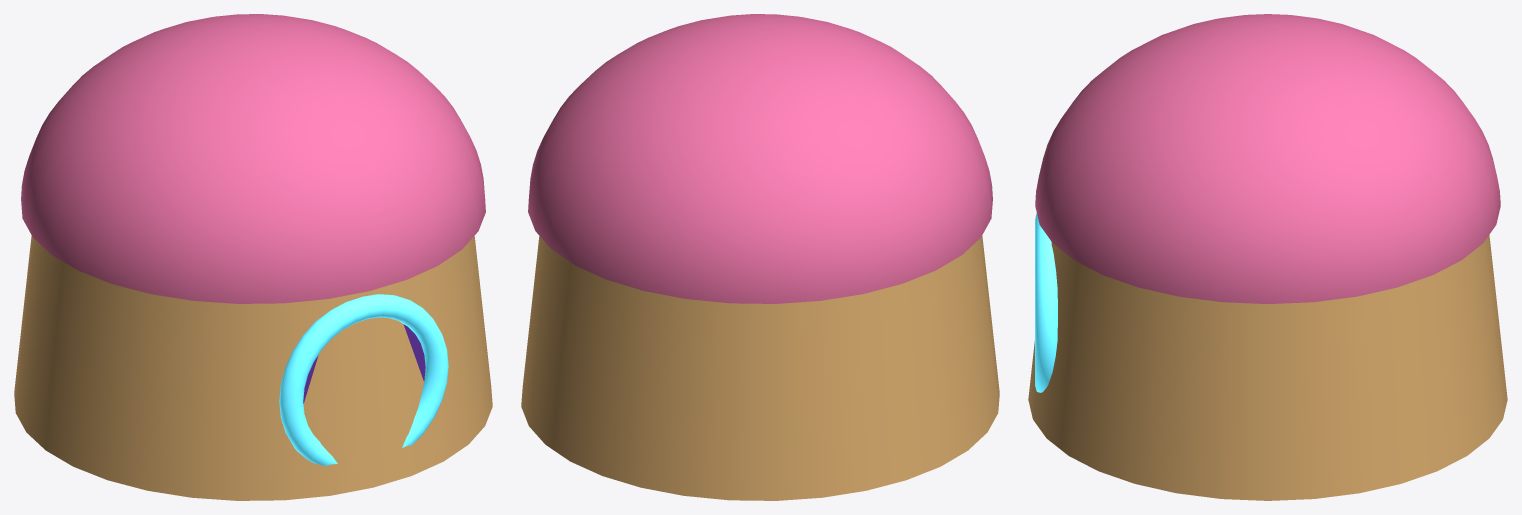
The model's file is game-dome-spike.glb.
3 views of the same model, side by side, from view 1: azimuth 30°, elevation 25°; view 2: azimuth 150°, elevation 25°; view 3: azimuth 270°, elevation 25° (orthographic).
Visible parts, largest first — view 1: UnlockedVisual, DomeBase, HighlightTarget, PortalDoor; view 2: UnlockedVisual, DomeBase; view 3: UnlockedVisual, DomeBase, HighlightTarget.
Boxes of the visible parts, x1,y1,x2,y2 form: UnlockedVisual: [21, 14, 485, 303]; DomeBase: [14, 236, 492, 500]; HighlightTarget: [279, 294, 448, 465]; PortalDoor: [303, 324, 425, 403]; UnlockedVisual: [528, 14, 992, 303]; DomeBase: [521, 236, 999, 500]; UnlockedVisual: [1035, 14, 1500, 303]; DomeBase: [1028, 235, 1507, 500]; HighlightTarget: [1035, 213, 1057, 392].
Bounding box in the file's own units: 5.6 × 4.62 × 5.6.
